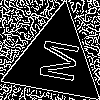M: (30, 35, 80, 85)
